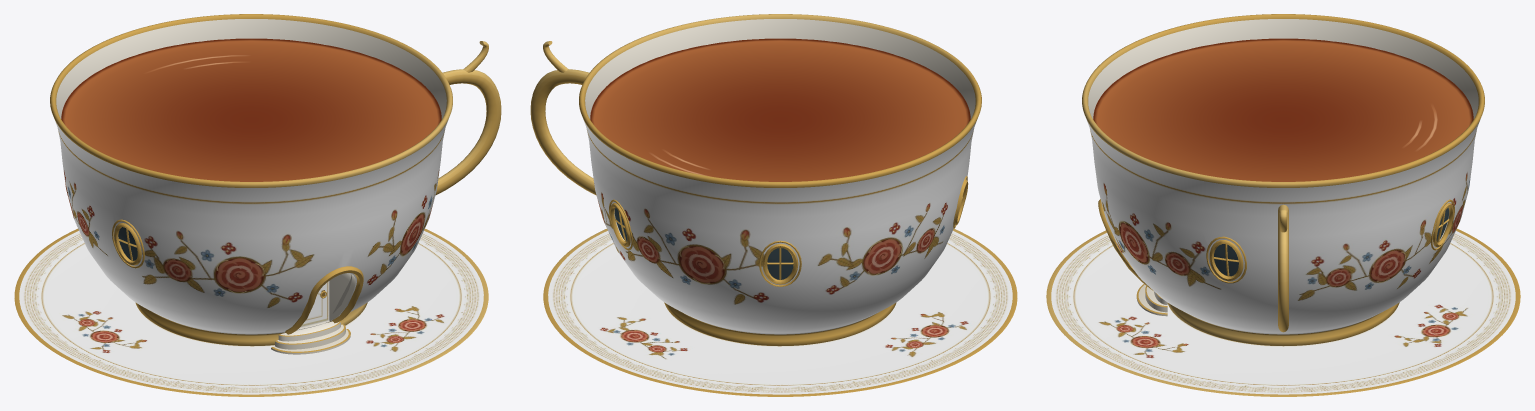
File: rose_cup.glb
3 renders of one model, left to right at view 1: azimuth 30°, elevation 25°; view 2: azimuth 150°, elevation 25°; view 3: azimuth 270°, elevation 25°, orthographic.
Visible parts, largest first — view 1: rose_cup-roof, rose_cup-saucer, rose_cup-wall-1, rose_cup-wall-0, rose_cup-wall-2, rose_cup-wall-7, rose_cup-base, rose_cup-wall-5, rose_cup-wall-4, rose_cup-shell, rose_cup-wall-6, rose_cup-wall-3 (+1 smaller); view 2: rose_cup-roof, rose_cup-saucer, rose_cup-wall-3, rose_cup-wall-4, rose_cup-wall-2, rose_cup-wall-5, rose_cup-wall-7, rose_cup-wall-0, rose_cup-shell, rose_cup-base, rose_cup-wall-6, rose_cup-wall-1; view 3: rose_cup-roof, rose_cup-saucer, rose_cup-wall-6, rose_cup-wall-5, rose_cup-wall-7, rose_cup-wall-2, rose_cup-base, rose_cup-wall-1, rose_cup-wall-3, rose_cup-wall-0, rose_cup-wall-4, rose_cup-shell.
Boxes of the visible parts, x1,y1,x2,y2 form: rose_cup-roof: [61, 38, 441, 181]; rose_cup-saucer: [14, 228, 488, 396]; rose_cup-wall-1: [129, 164, 277, 333]; rose_cup-wall-0: [267, 149, 411, 334]; rose_cup-wall-2: [52, 109, 176, 322]; rose_cup-wall-7: [361, 87, 452, 305]; rose_cup-base: [135, 302, 367, 354]; rose_cup-wall-5: [225, 14, 372, 54]; rose_cup-wall-4: [93, 14, 226, 69]; rose_cup-shell: [435, 41, 501, 195]; rose_cup-wall-6: [367, 31, 450, 108]; rose_cup-wall-3: [50, 47, 100, 191]; rose_cup-roof: [590, 38, 970, 181]; rose_cup-saucer: [543, 228, 1017, 396]; rose_cup-wall-3: [754, 164, 902, 333]; rose_cup-wall-4: [620, 149, 764, 332]; rose_cup-wall-2: [855, 109, 979, 322]; rose_cup-wall-5: [579, 87, 670, 305]; rose_cup-wall-7: [659, 14, 806, 54]; rose_cup-wall-0: [805, 14, 938, 69]; rose_cup-shell: [530, 41, 596, 195]; rose_cup-base: [664, 302, 896, 346]; rose_cup-wall-6: [581, 31, 664, 108]; rose_cup-wall-1: [931, 47, 981, 201]; rose_cup-roof: [1093, 38, 1473, 181]; rose_cup-saucer: [1046, 228, 1520, 396]; rose_cup-wall-6: [1206, 175, 1360, 333]; rose_cup-wall-5: [1331, 130, 1469, 329]; rose_cup-wall-7: [1097, 130, 1235, 329]; rose_cup-wall-2: [1207, 14, 1359, 44]; rose_cup-base: [1136, 284, 1399, 346]; rose_cup-wall-1: [1098, 20, 1210, 87]; rose_cup-wall-3: [1356, 20, 1468, 87]; rose_cup-wall-0: [1082, 66, 1153, 290]; rose_cup-wall-4: [1426, 66, 1484, 278]; rose_cup-shell: [1278, 204, 1288, 332].
Bounding box in the file's own units: 14.2 × 5.99 × 12.82.
2 materials, 1 textured.
